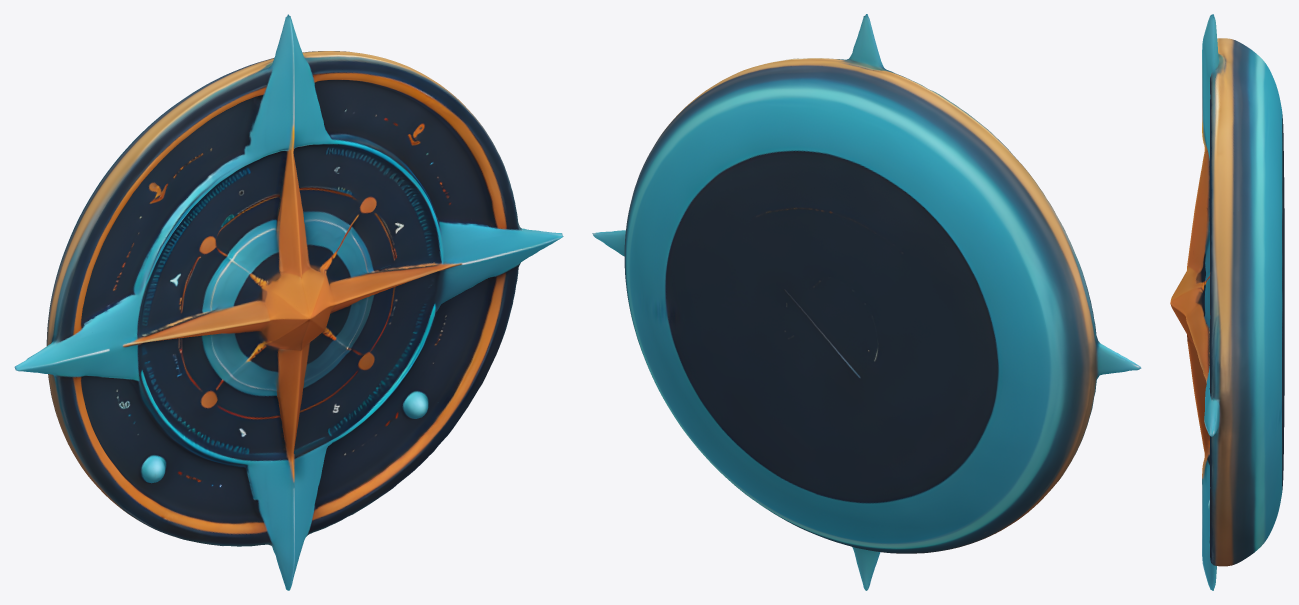
Rendered from treasure_hunt.glb.
3 views of the same model, side by side, from view 1: azimuth 30°, elevation 25°; view 2: azimuth 150°, elevation 25°; view 3: azimuth 270°, elevation 25° (orthographic).
Visible parts, largest first — view 1: model; view 2: model; view 3: model.
Part boxes in pixels (x1,y1,x2,y2): model: (14,14,563,590); model: (592,14,1141,590); model: (1170,14,1284,590).
Bounding box in the file's own units: 1.89 × 1.9 × 0.3413.
Materials: 1 (1 with a texture image).
